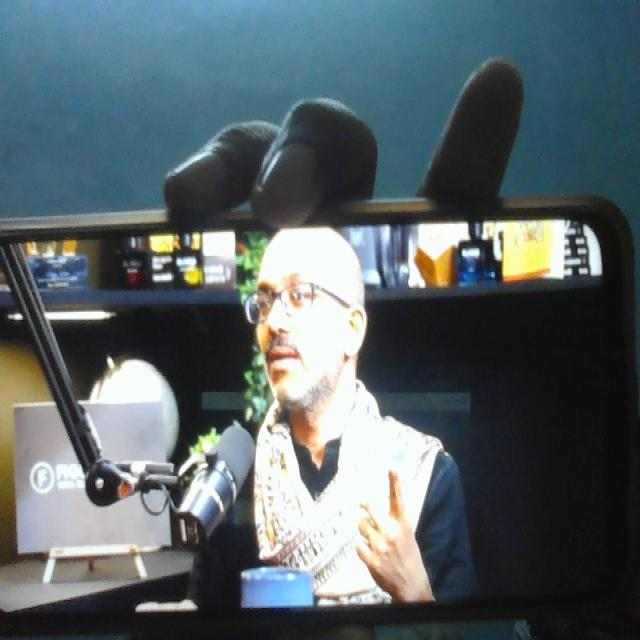fake: (237, 168, 367, 415)
